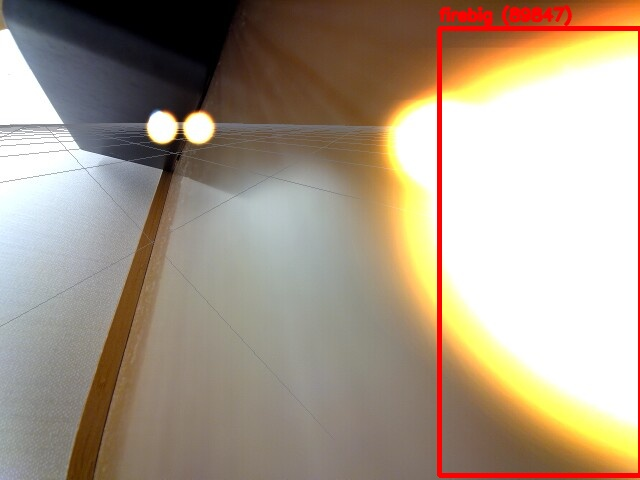firebig: (439, 28, 640, 475)
